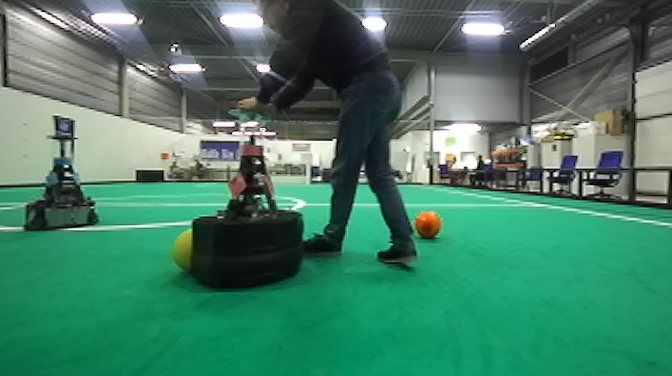ball: (170, 223, 195, 276), (412, 206, 444, 243)
goalpost: (305, 160, 311, 188)
human: (225, 1, 422, 271)
robot: (191, 105, 310, 291), (18, 111, 102, 237)
